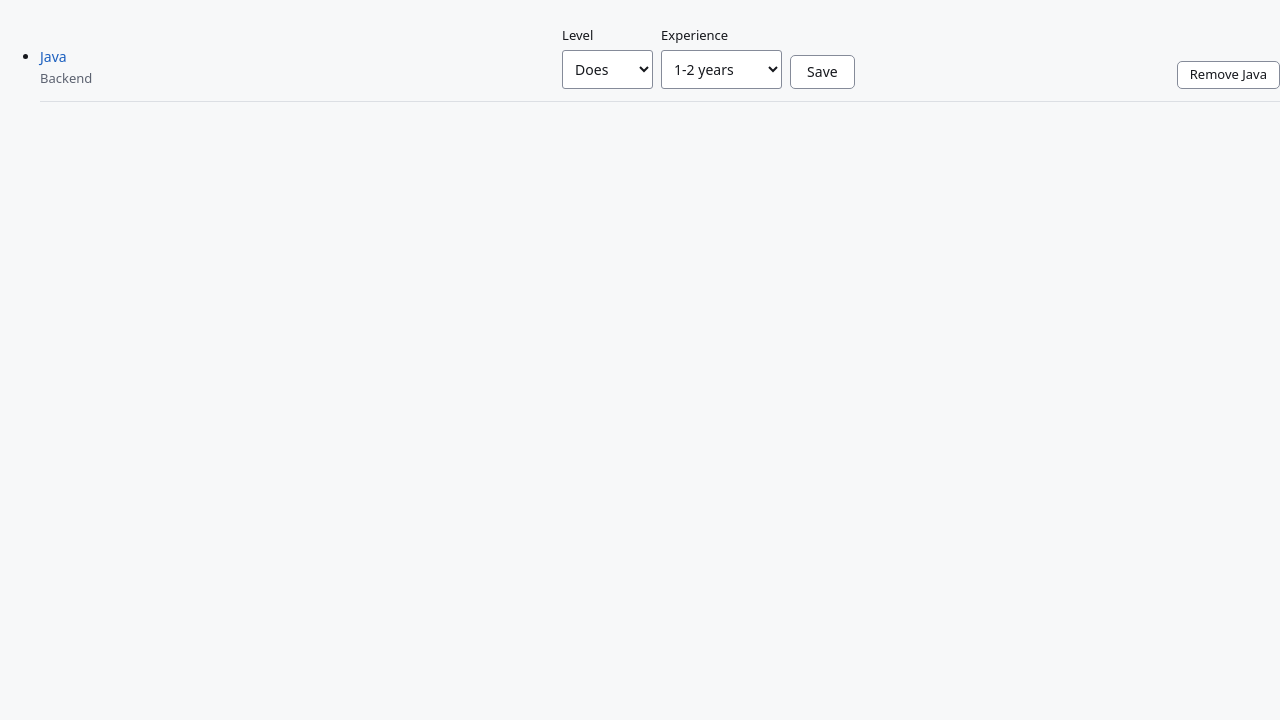
Scenario: my skills › names the skill in the removal confirmation, and what it does not do
Click the button "Remove Java": (1228, 74) x1=1177 y1=60 x2=1279 y2=88
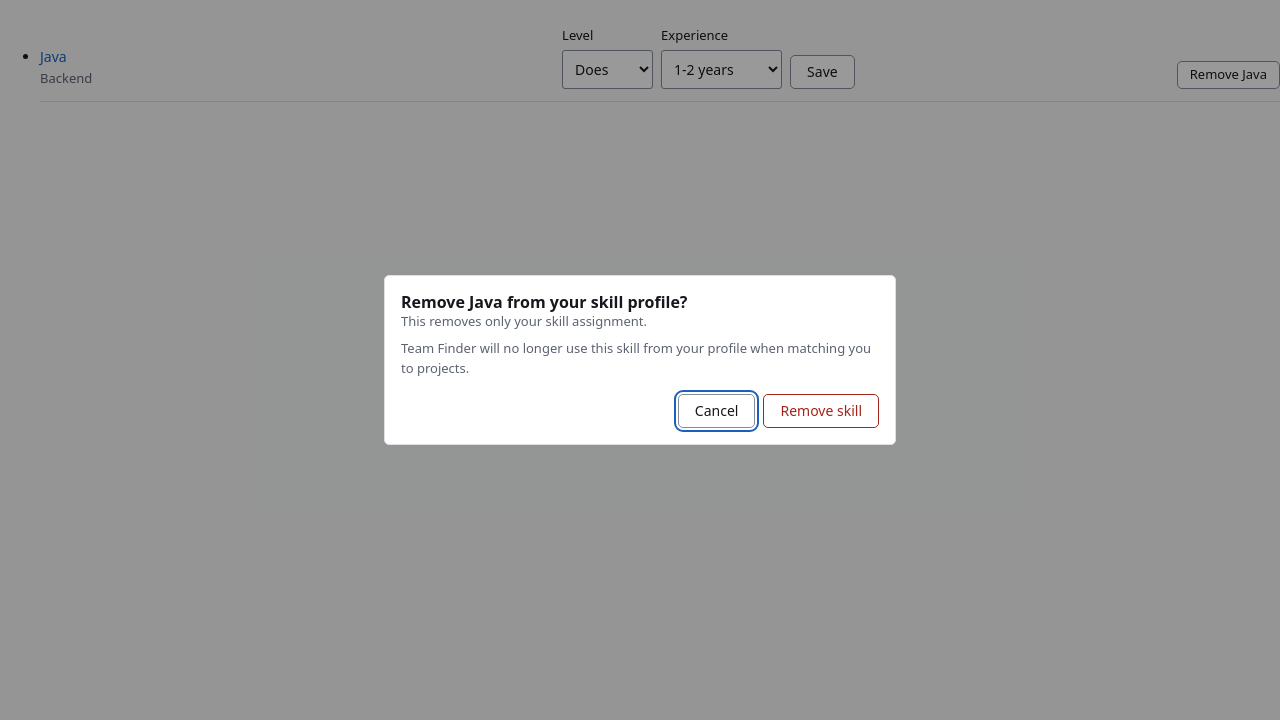
Result: the heading "Remove Java from your skill profile?" is shown at x1=401 y1=291 x2=688 y2=313
Result: the text "This removes only your skill assignment." is shown at x1=401 y1=312 x2=647 y2=330
Result: the text "Team Finder will no longer use this skill" is shown at x1=401 y1=339 x2=871 y2=377
